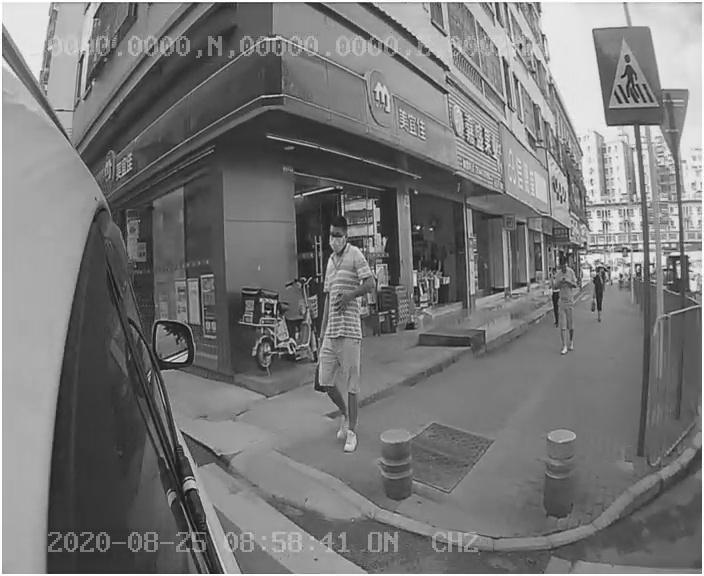person: (306, 216, 379, 457)
